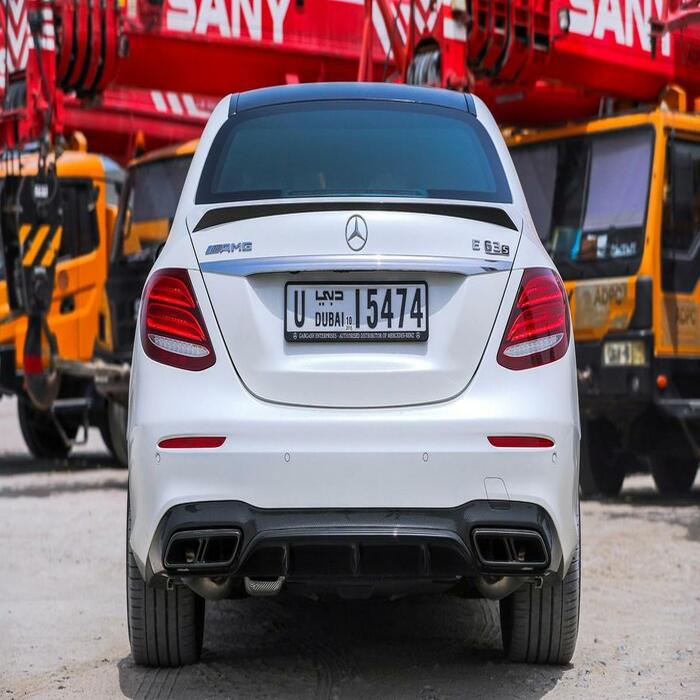n: (278, 280, 435, 341)
